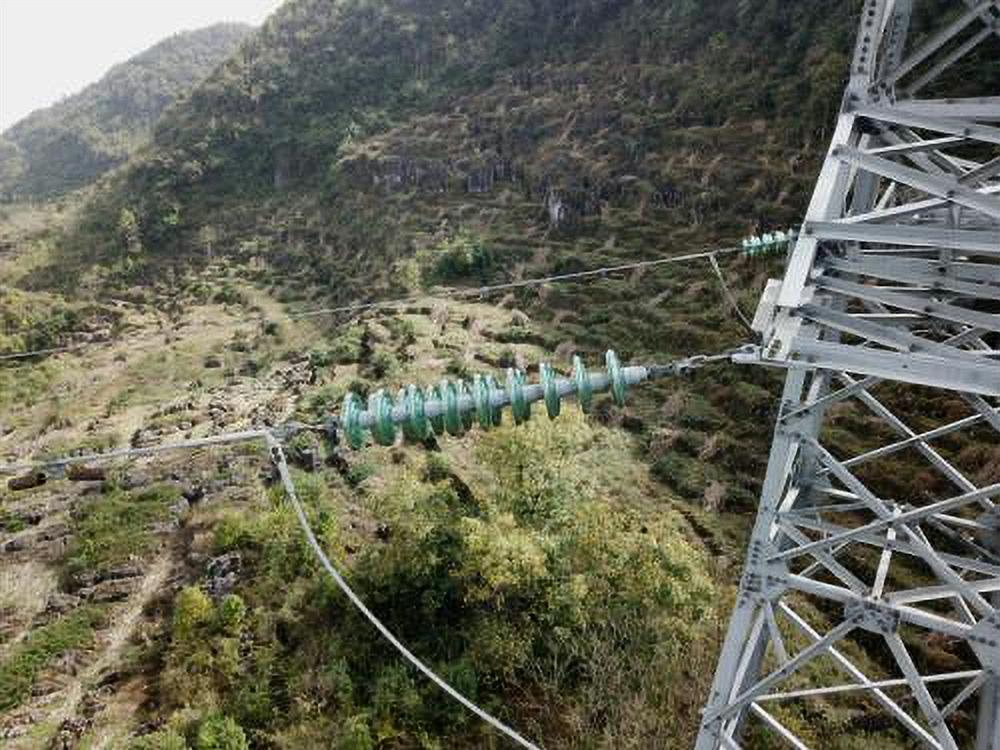insulator: (330, 345, 632, 453)
